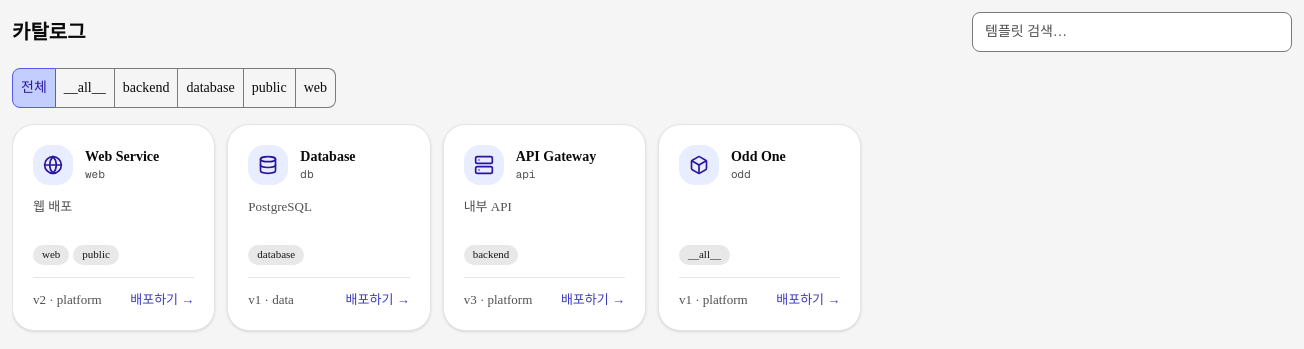
CatalogBrowser › tag filter › filters a tag that collides with the reset chip's own name
Click the button "__all__" at (85, 88), box [56, 68, 115, 108]
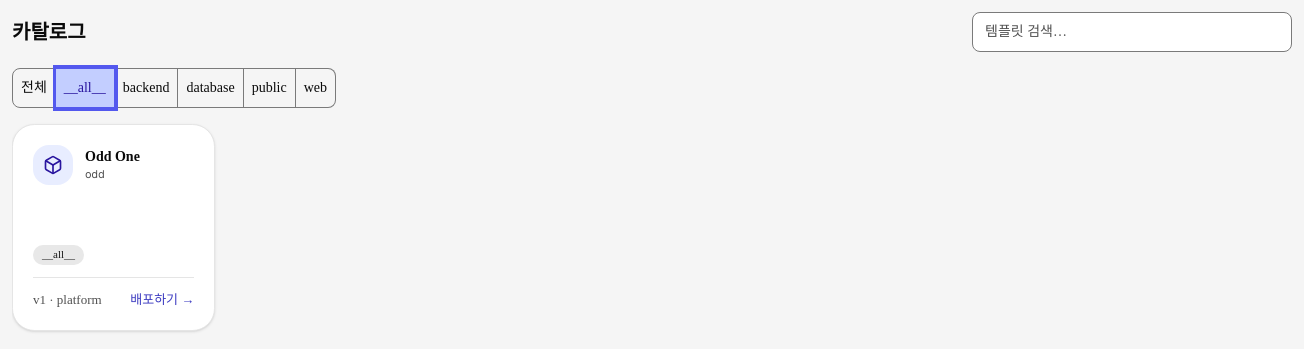
expect the heading "Odd One" is shown: met, box [85, 147, 140, 167]
expect the heading "Web Service" is gone: met
